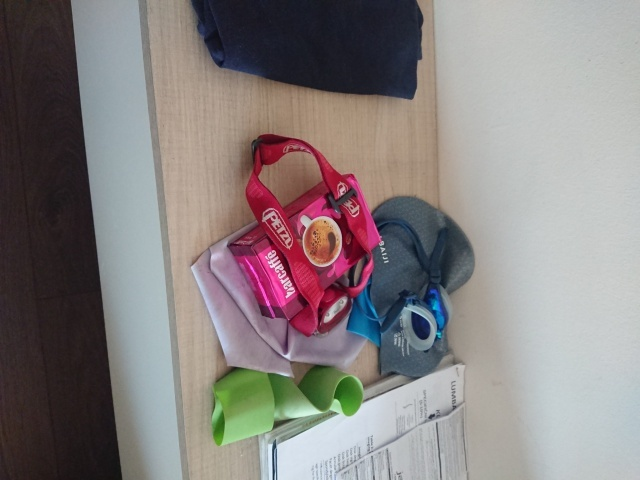Barcaffe Classic Original 225g: (226, 172, 383, 322)
